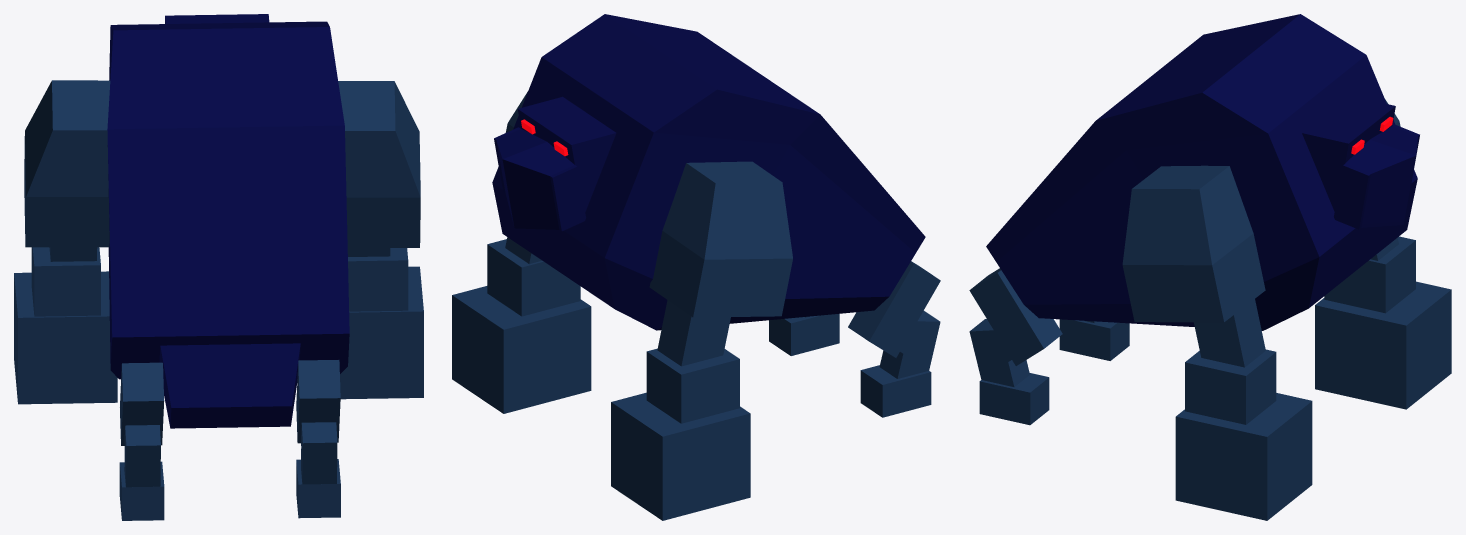
File: monster.fbx
3 views of the same model, side by side, from view 1: azimuth 30°, elevation 25°; view 2: azimuth 150°, elevation 25°; view 3: azimuth 270°, elevation 25° (orthographic). The views are drawn at different scales.
Parts seen in each view (by area): view 1: Monster Toy.002; view 2: Monster Toy.002; view 3: Monster Toy.002.
Boxes of the visible parts, x1,y1,x2,y2 form: Monster Toy.002: (14,14,423,520); Monster Toy.002: (452,14,940,520); Monster Toy.002: (969,14,1451,520).
Bounding box in the file's own units: 34.07 × 31.09 × 36.67.
